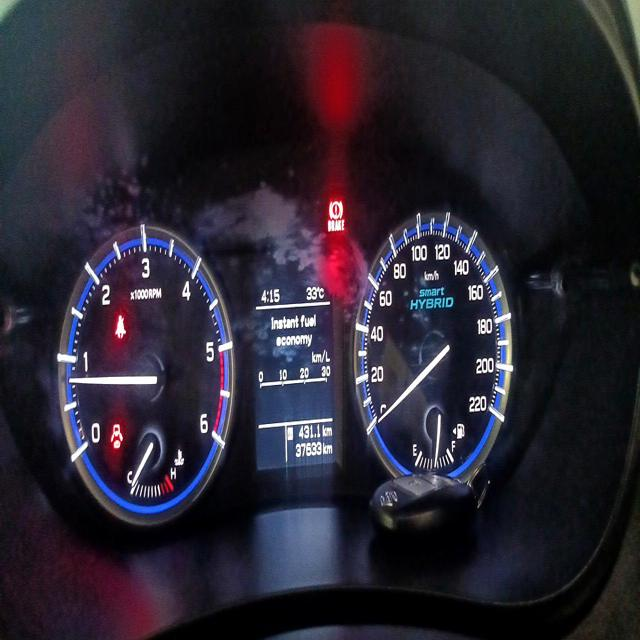odometer: (291, 435, 325, 464)
